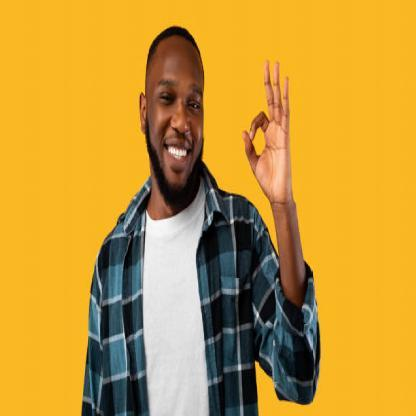ok: (240, 54, 291, 211)
